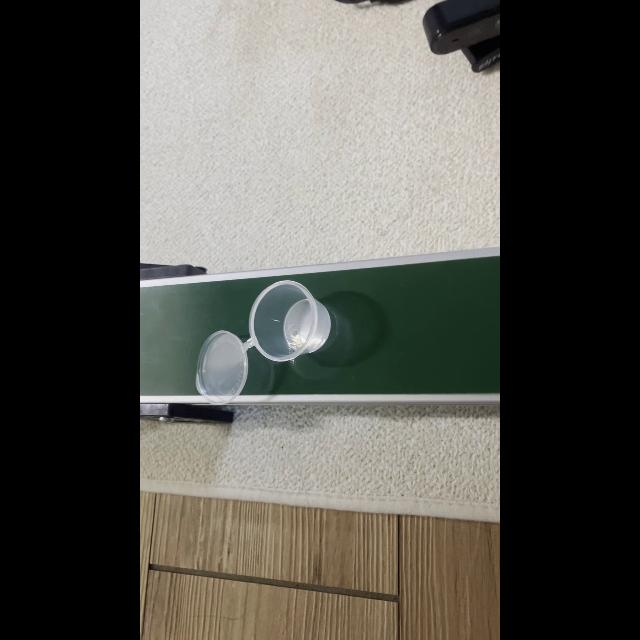clean: (194, 279, 332, 406)
